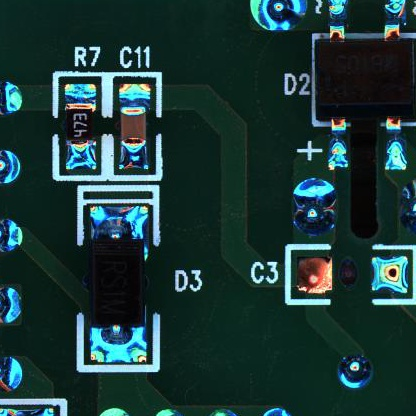spot: (289, 178, 336, 236), (248, 1, 307, 34), (338, 354, 370, 388)
